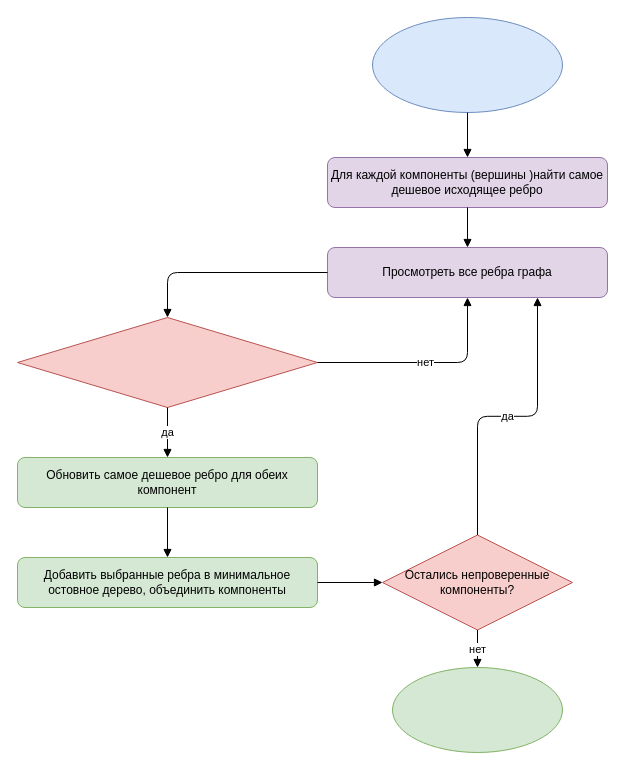
This 625x770 diagram has some shape labels left out. The shapes that lost their labels are listed below. From the top down, each one's box as (x1, y1, x2, y2) in pixels, then its label:
(372, 16, 562, 112): Начало
(16, 316, 318, 408): Концы ребра в разных компонентах?
(392, 666, 562, 752): Конец
